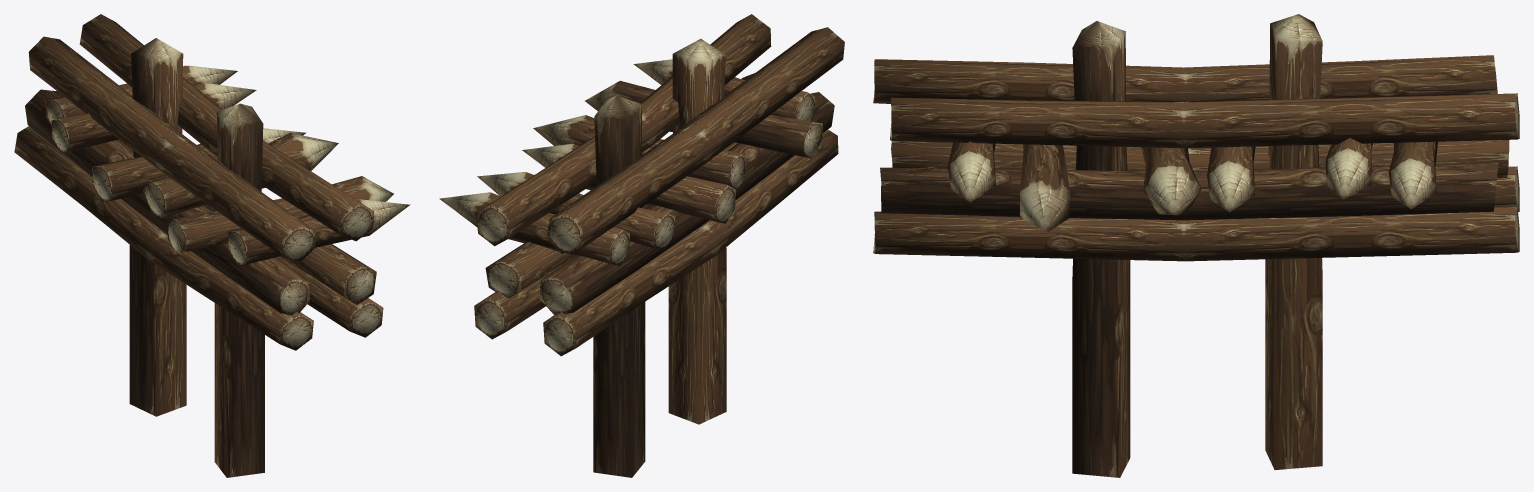
Rendered from nd_human_barrier.obj.
3 renders of one model, left to right at view 1: azimuth 30°, elevation 25°; view 2: azimuth 150°, elevation 25°; view 3: azimuth 270°, elevation 25°, orthographic. The views are drawn at different scales.
Visible parts, largest first — view 1: nd_human_barrier; view 2: nd_human_barrier; view 3: nd_human_barrier.
Part boxes in pixels (x1,y1,x2,y2): nd_human_barrier: (14,14,410,477); nd_human_barrier: (439,14,844,477); nd_human_barrier: (873,14,1519,477).
Bounding box in the file's own units: 6.71 × 10.75 × 13.99.
1 material, 1 textured.
